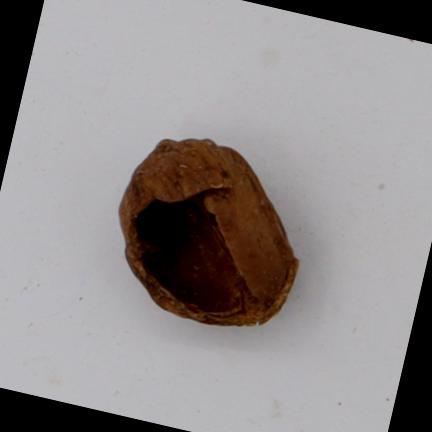full-black: (119, 140, 298, 325)
